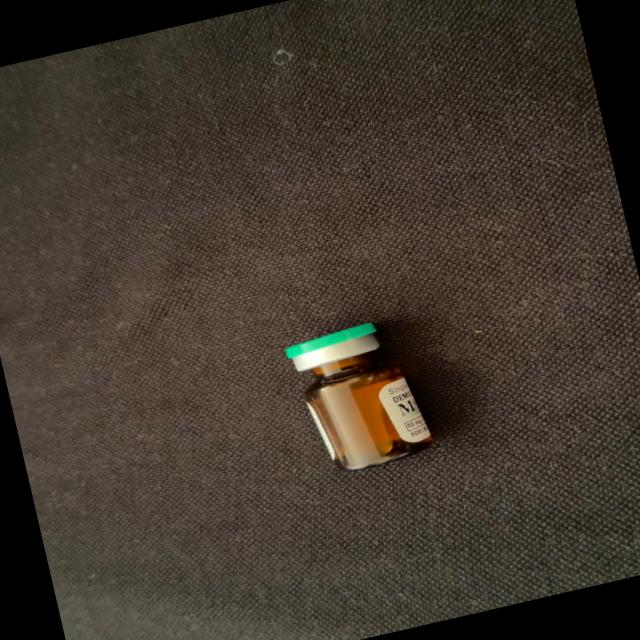midazolm: (286, 315, 434, 476)
